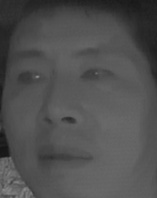eye: (80, 63, 115, 87), (14, 67, 50, 88)
mouth: (32, 139, 93, 171)
